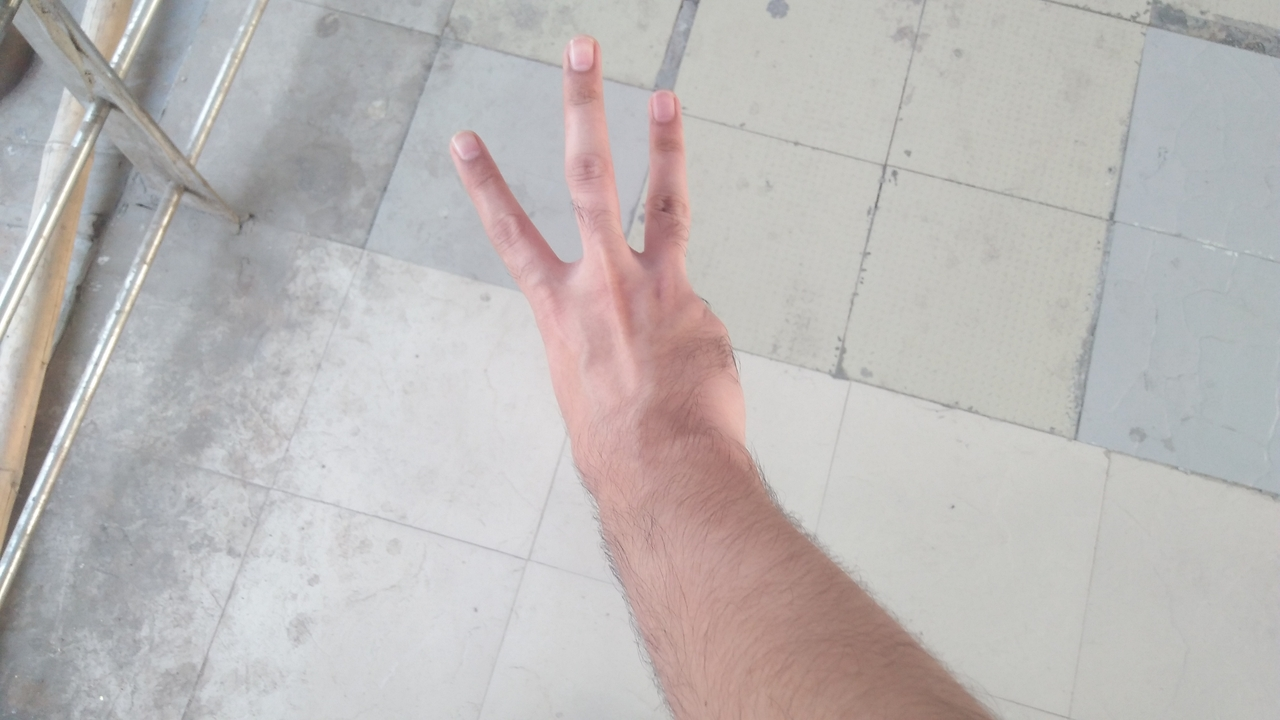fingertip: (438, 120, 498, 168), (554, 26, 606, 74), (640, 80, 688, 120)
